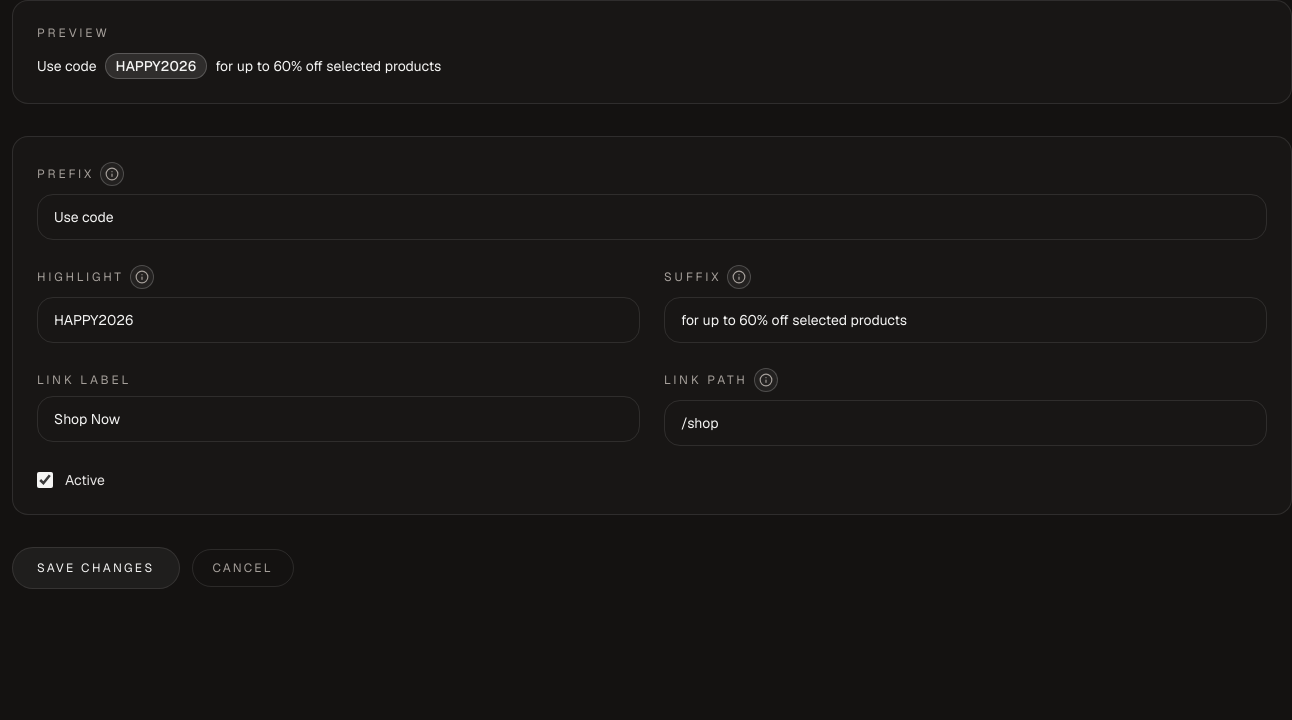
Test: announcement form › field help tooltips › still shows field labels and still shows validation errors, never inside a tooltip
This screenshot has width=1292, height=720.
Expected: the field labelled "Prefix" is shown, [37,194,1267,240]
Expected: the field labelled "Link label" is shown, [37,396,640,442]
Step 1. Click the button "Save changes" → (96, 568), box [12,547,180,589]
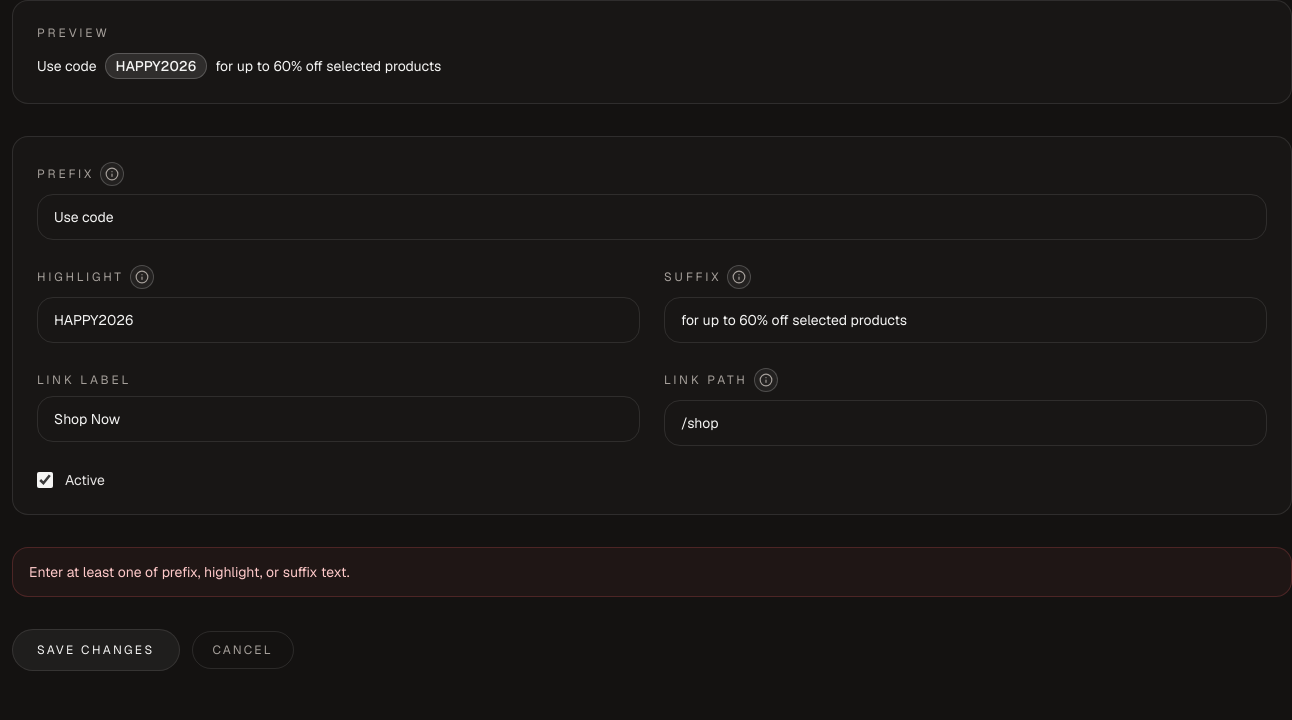
Expected: the message reads "Enter at least one of prefix, highlight, or suffix text.", [29,563,350,581]
